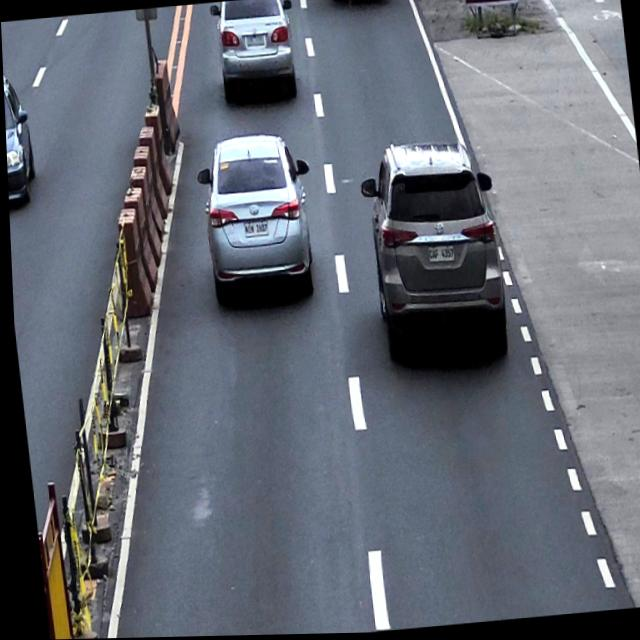Car: (354, 136, 510, 373), (190, 129, 322, 309), (207, 0, 303, 110), (2, 66, 39, 214)
License-Plate: (424, 245, 453, 265), (240, 220, 268, 240), (243, 33, 264, 49)
